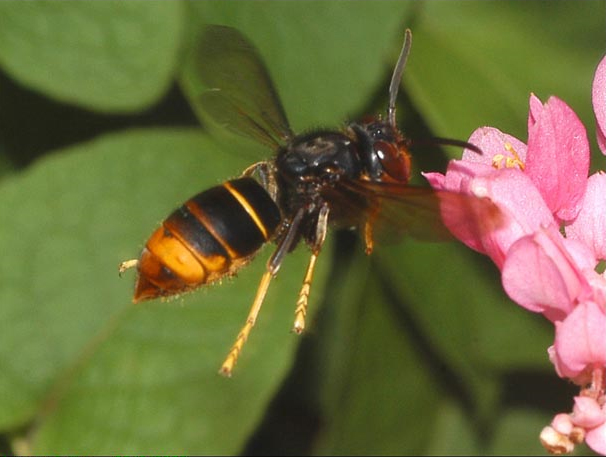hornet: (122, 79, 432, 338)
